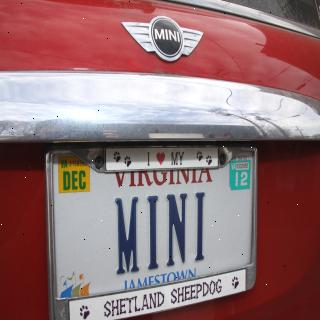license: (46, 147, 260, 320)
